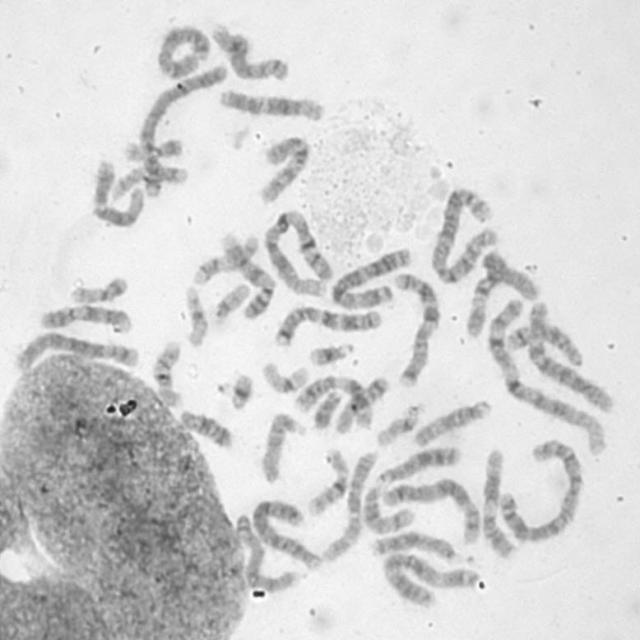A1: (484, 294, 610, 458), (260, 205, 334, 298)
A2: (496, 434, 585, 544), (427, 181, 501, 285)
A3: (379, 548, 484, 610), (327, 242, 414, 311)
B4: (134, 61, 230, 197), (247, 494, 325, 572)
B5: (378, 475, 482, 546), (11, 327, 143, 374)
C10: (317, 447, 378, 564), (256, 131, 314, 206)
C11: (290, 370, 377, 430), (477, 442, 519, 561)
C12: (214, 84, 326, 124), (90, 158, 146, 230)
C6: (524, 296, 617, 415), (459, 255, 538, 340)
C7: (392, 268, 444, 389), (270, 302, 386, 348)
C8: (234, 510, 308, 595), (208, 18, 290, 83)
C9: (216, 230, 279, 322), (35, 300, 135, 336)
D13: (369, 442, 462, 487), (368, 528, 462, 563)
D14: (504, 317, 587, 369), (358, 482, 416, 534)
D15: (410, 394, 494, 448), (259, 407, 309, 485)
E16: (303, 442, 353, 518), (149, 336, 186, 410)
E17: (188, 230, 260, 286), (109, 168, 193, 199)
E18: (332, 371, 392, 436), (176, 406, 234, 450)
F19: (258, 357, 311, 395), (180, 282, 210, 348)
F20: (66, 272, 130, 306), (120, 134, 184, 162)
G21: (304, 337, 357, 368), (226, 368, 255, 411)
G22: (372, 399, 423, 449), (211, 278, 252, 323)
X: (154, 20, 211, 80)
Y: (309, 386, 344, 431)
